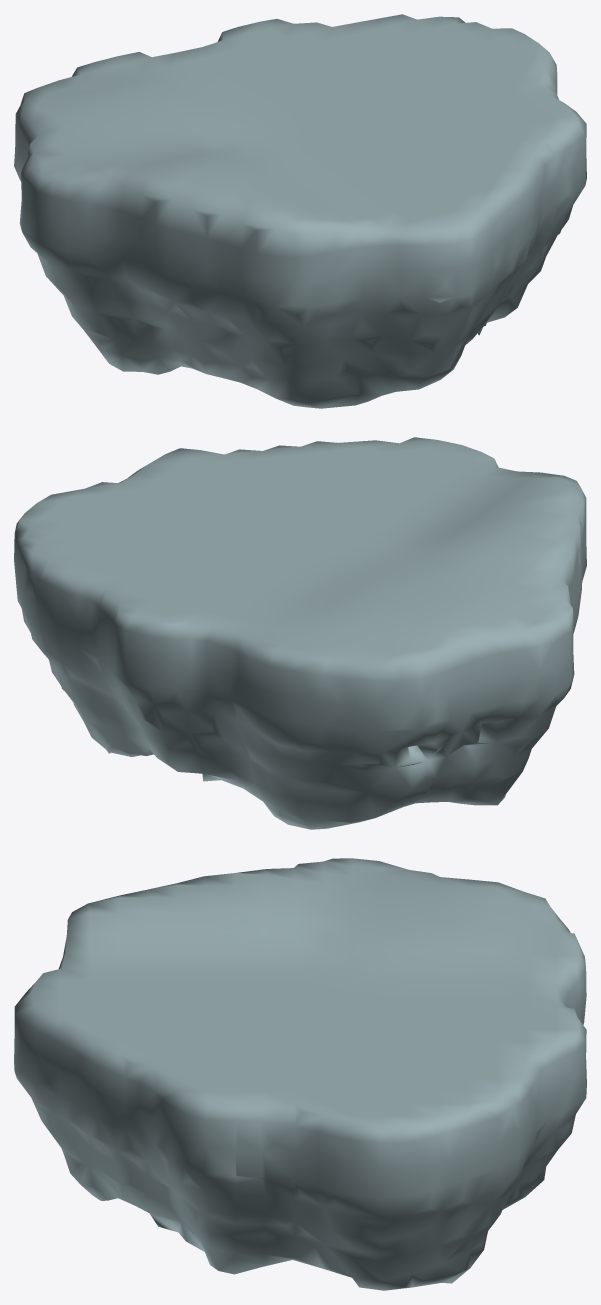
File: distant.glb
3 views of the same model, one above another, from view 1: azimuth 30°, elevation 25°; view 2: azimuth 150°, elevation 25°; view 3: azimuth 270°, elevation 25° (orthographic). The views are drawn at different scales.
Visible parts, largest first — view 1: lsic_distant_hull; view 2: lsic_distant_hull; view 3: lsic_distant_hull.
Boxes of the visible parts, x1,y1,x2,y2 form: lsic_distant_hull: (14,14,586,408); lsic_distant_hull: (14,437,586,829); lsic_distant_hull: (14,858,586,1290).
Size of the model in its own units: 111 by 45.22 by 98.13.
